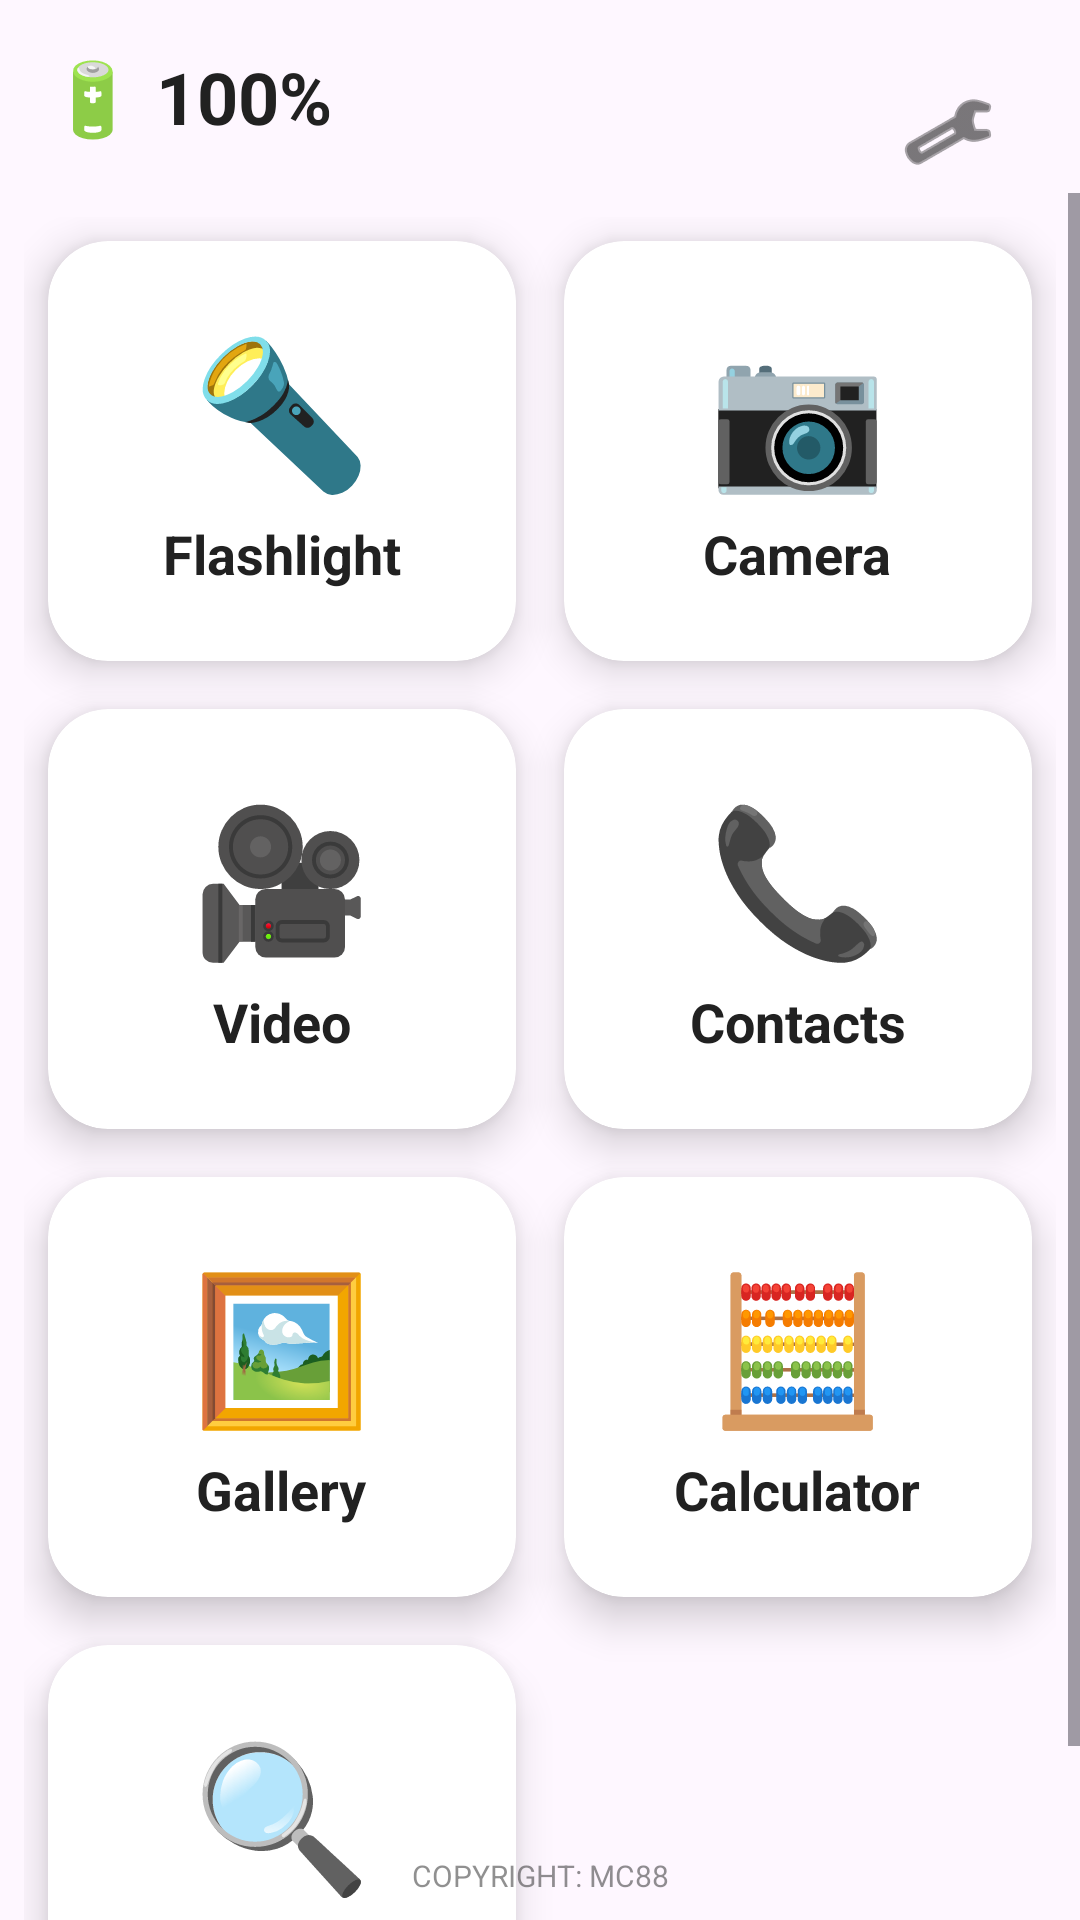

Point at icon controls on the screen. Image size 1080px x 1920px, points as [x,y].
manage: [948,132]
